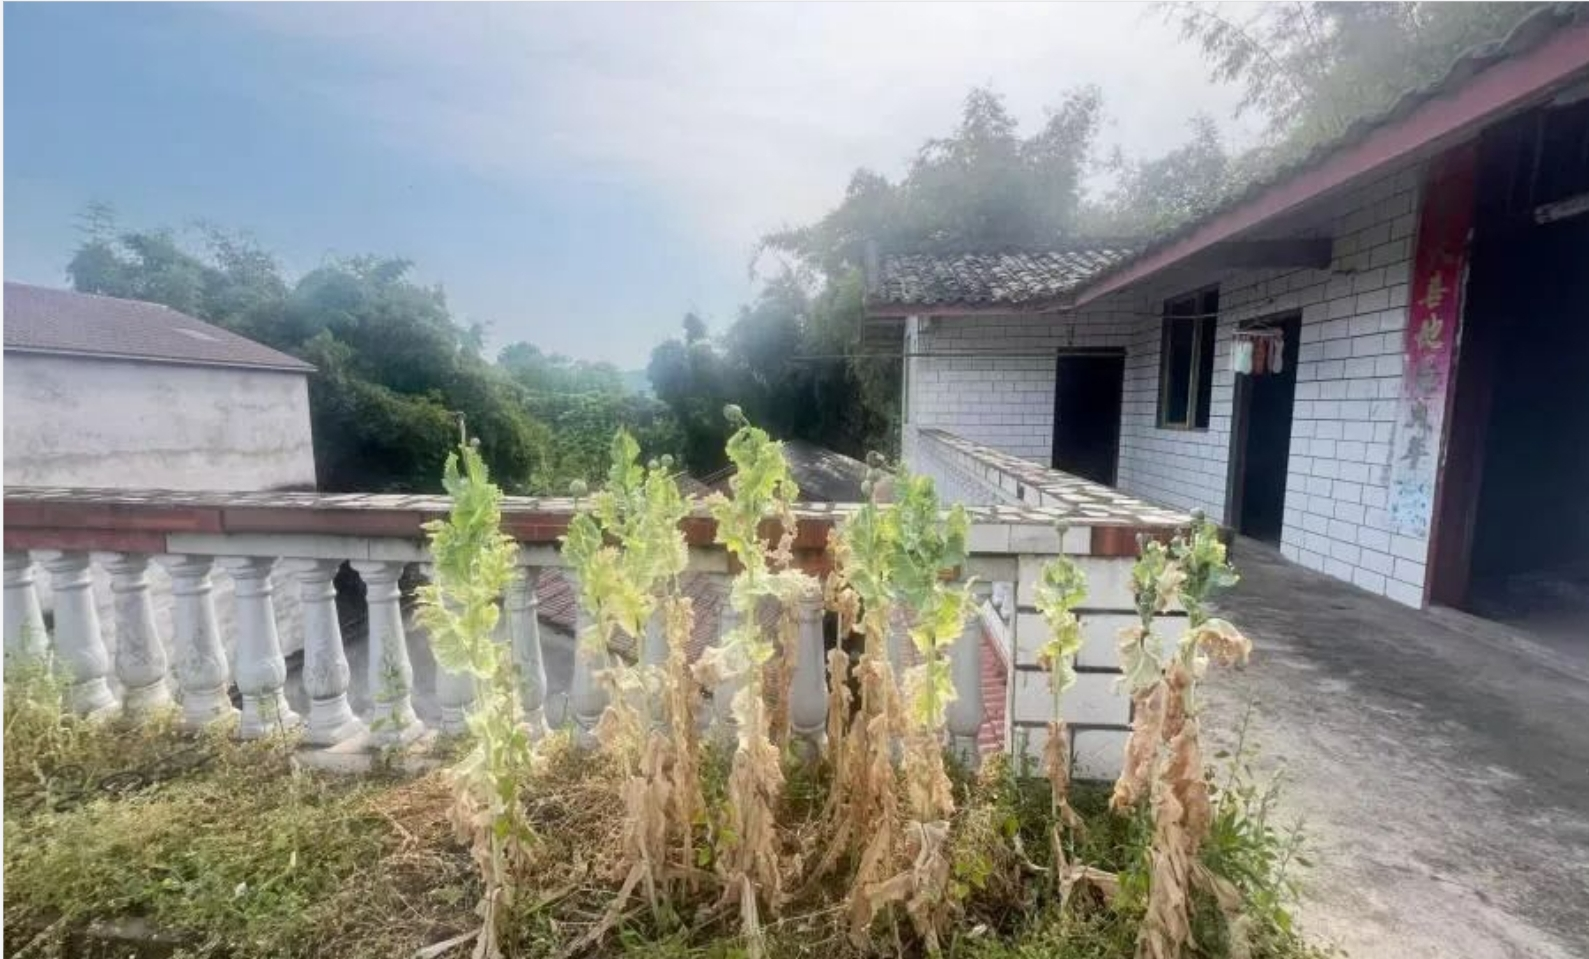Poppy: (400, 397, 1245, 932)
